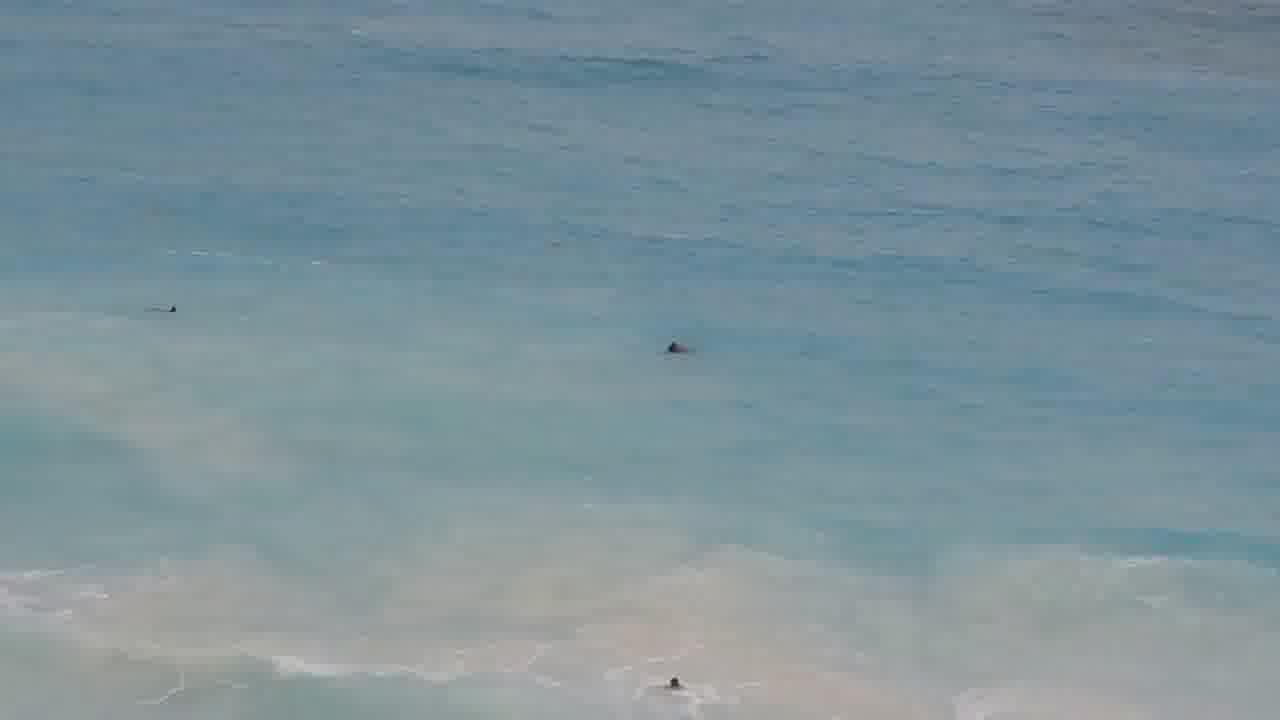swimmer: (649, 325, 706, 372), (653, 666, 704, 701), (157, 294, 188, 319)
